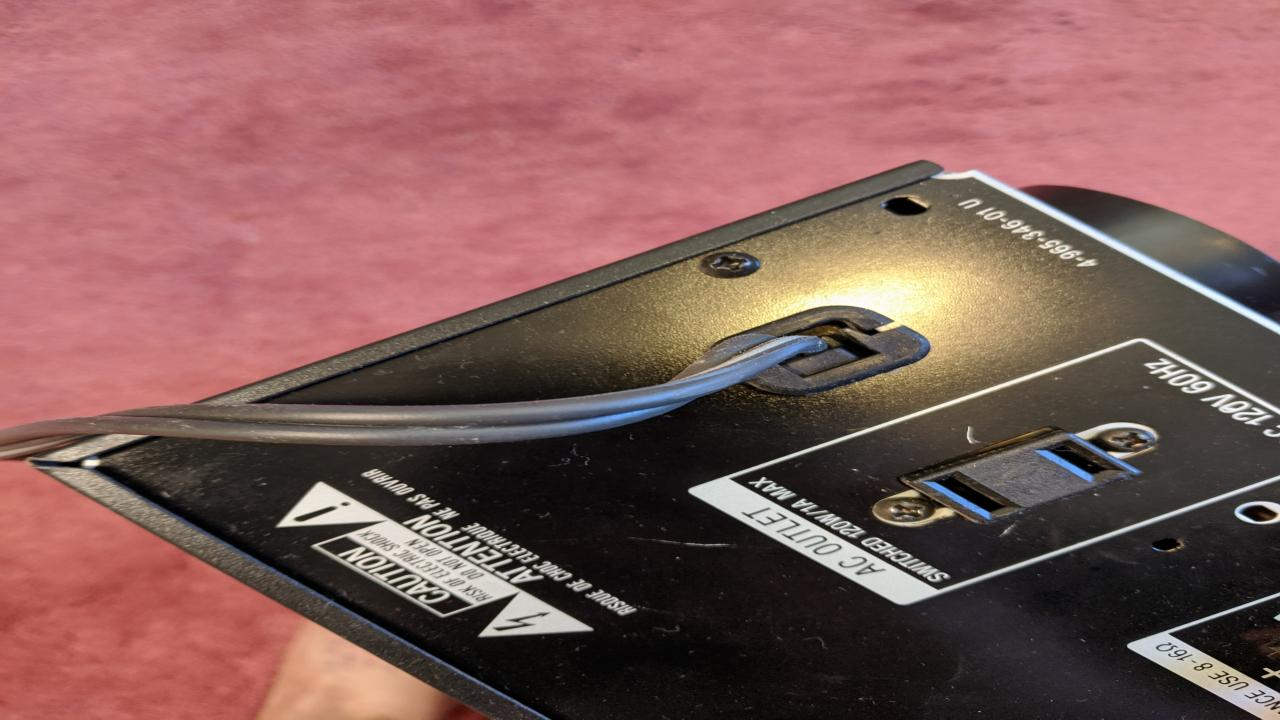CRS: (870, 497, 936, 524), (696, 251, 762, 277), (1099, 426, 1151, 450)
